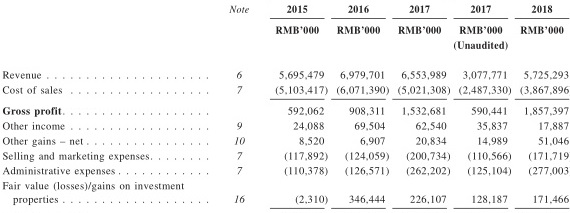column: (3, 1, 208, 213), (454, 1, 511, 213), (336, 2, 390, 213), (276, 1, 328, 213), (398, 1, 450, 213), (520, 1, 570, 211), (229, 1, 249, 213)
row: (1, 85, 570, 97), (1, 25, 570, 36), (1, 106, 570, 117), (1, 136, 570, 147), (1, 151, 570, 162), (1, 166, 570, 177), (1, 181, 570, 192), (1, 41, 570, 51), (1, 195, 570, 205), (1, 70, 569, 80), (1, 121, 570, 130), (3, 5, 570, 14)
